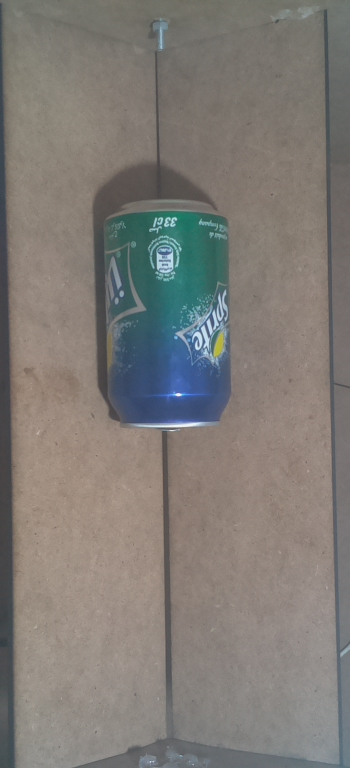Canette: (93, 191, 243, 440)
